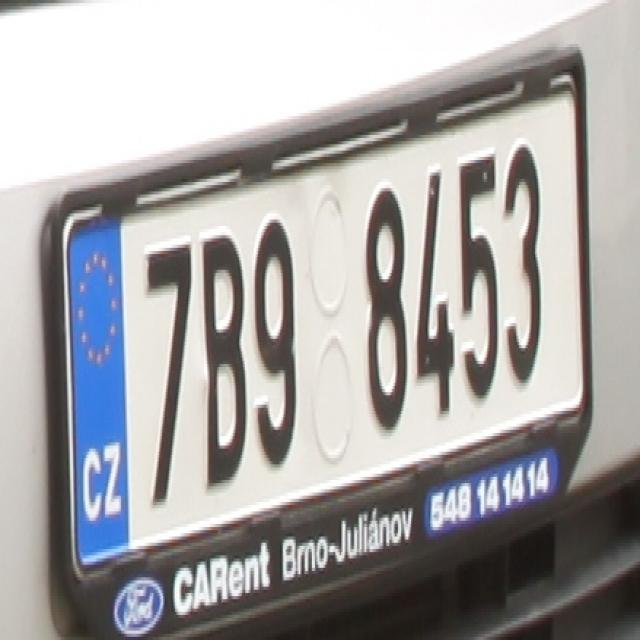3: (502, 141, 546, 392)
4: (412, 160, 454, 420)
5: (454, 148, 502, 402)
7: (138, 235, 191, 505)
8: (360, 179, 411, 433)
9: (252, 213, 300, 471)
B: (197, 229, 248, 493)
